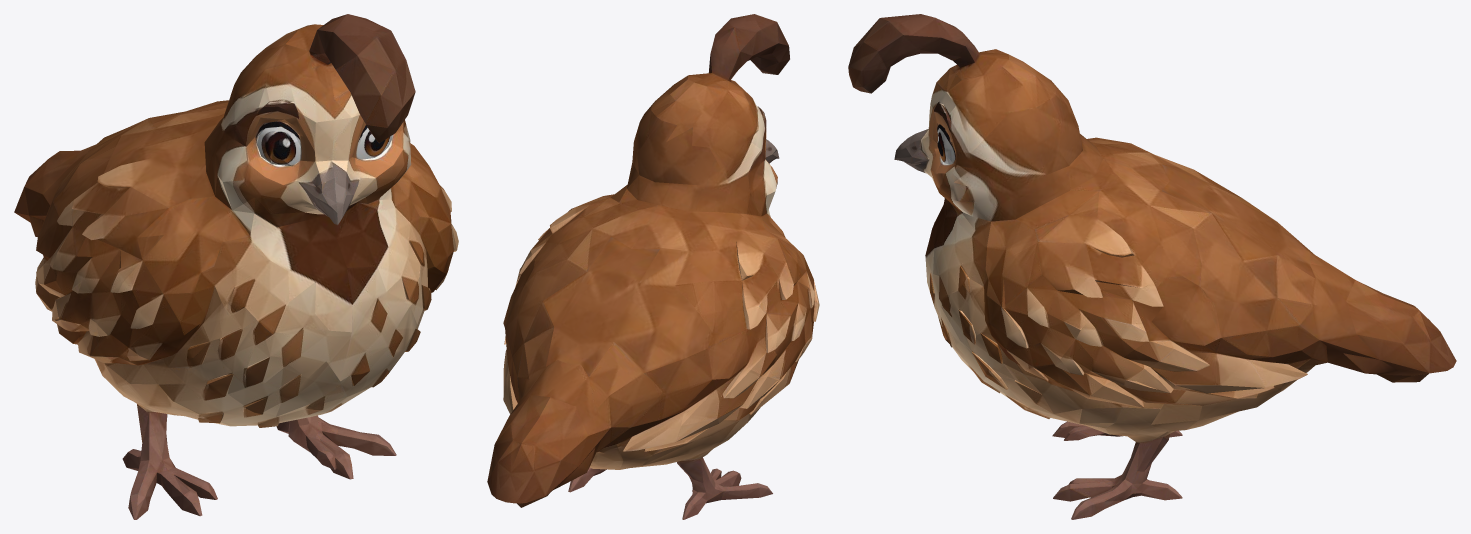
File: quail.glb
3 renders of one model, left to right at view 1: azimuth 30°, elevation 25°; view 2: azimuth 150°, elevation 25°; view 3: azimuth 270°, elevation 25°, orthographic. The views are drawn at different scales.
Size of the model in its own units: 1.08 by 1.55 by 1.9.
Materials: 1 (1 with a texture image).
